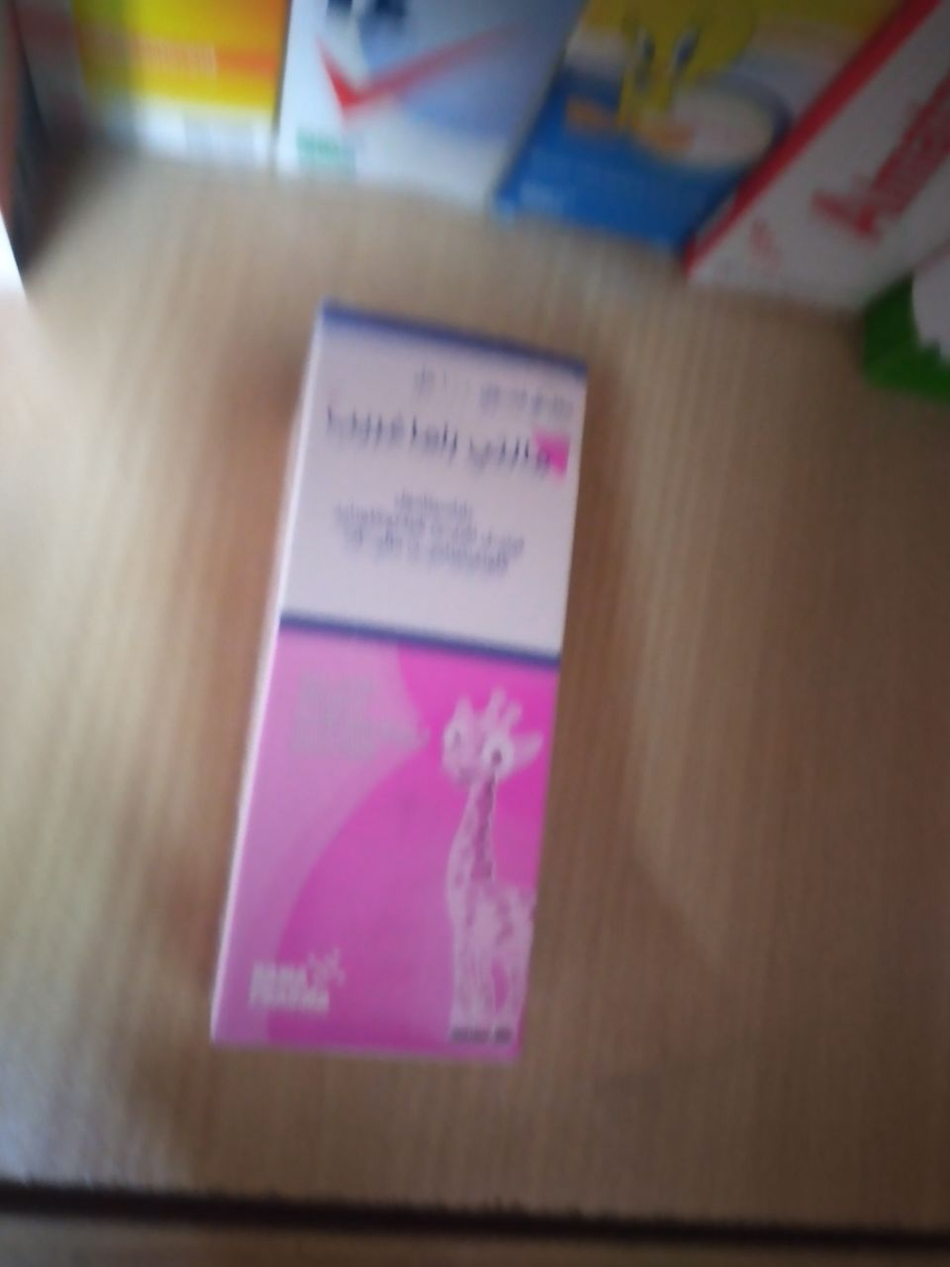Medicine: (198, 280, 610, 1086)
